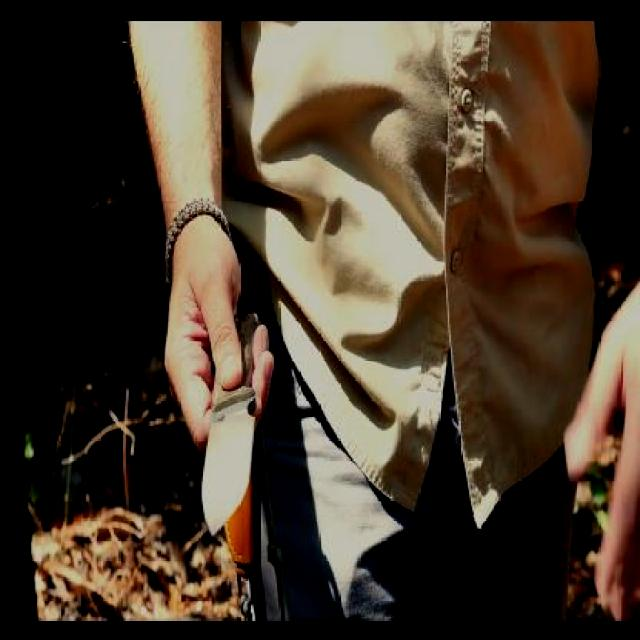knife: (162, 304, 280, 544)
